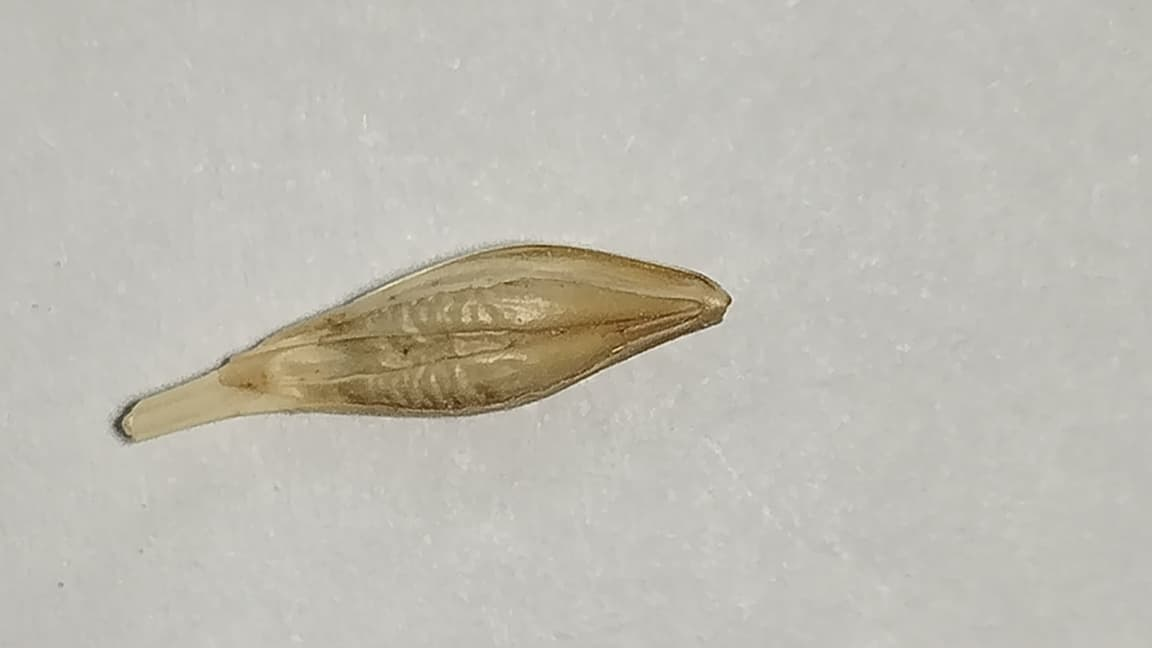healthy-50-40: (123, 245, 729, 440)
shriveledseed: (377, 280, 561, 416)
